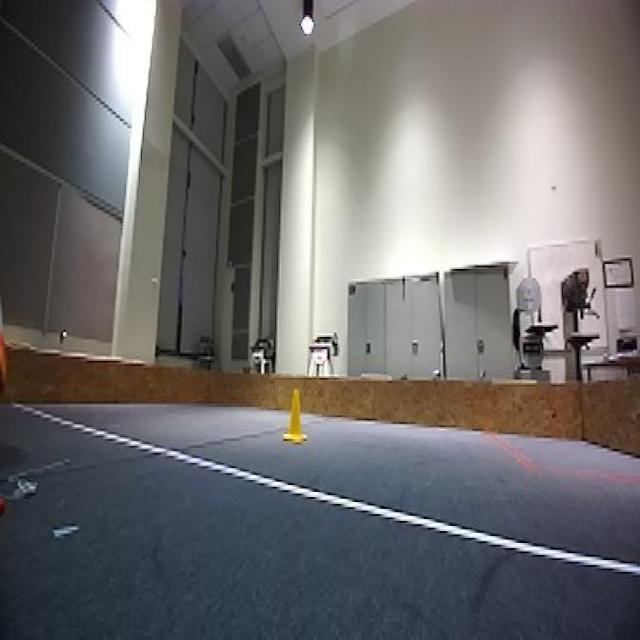frc_cone: (284, 388, 310, 446)
